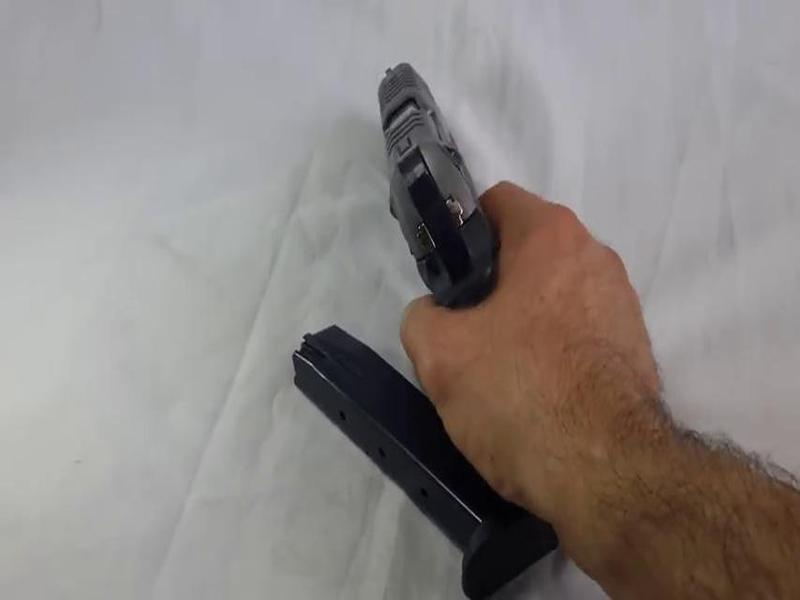Pistola: (334, 26, 521, 342)
